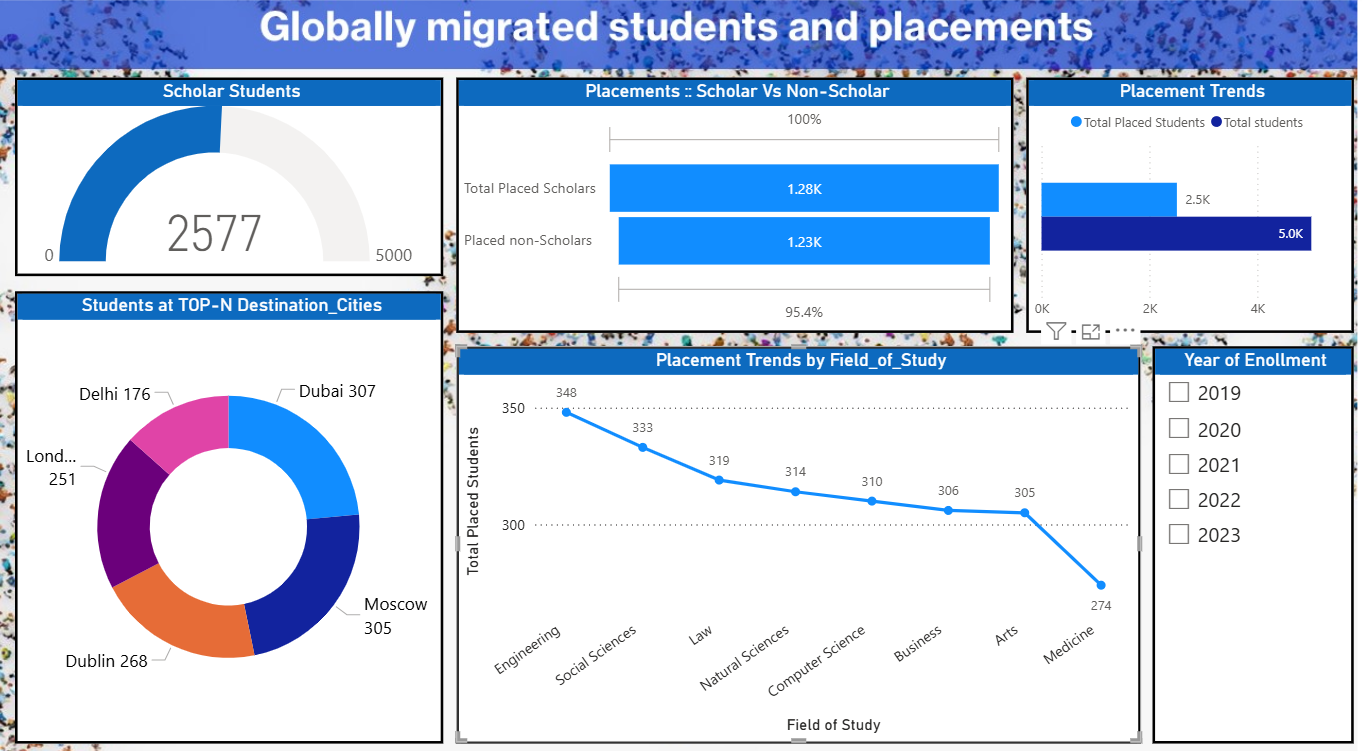

The dashboard page shown, as its layout file describes it:
{"tool":"powerbi","page":{"name":"Page 2","canvas":[1280,720],"ordinal":1},"visuals":[{"type":"image","box":[0,0,1280.3,720.2],"z":0},{"type":"gauge","title":"Scholar Students","fields":{"MaxValue":["global_student_migration.Total students"],"Y":["global_student_migration.Scholar Students"]},"box":[23.2,77,398.6,184.6],"z":1000},{"type":"donutChart","title":"Students at TOP-N Destination_Cities","fields":{"Category":["global_student_migration.destination_city"],"Y":["global_student_migration.Total students"]},"box":[23.2,275.1,398.6,420.7],"z":2000},{"type":"funnel","title":"Placements :: Scholar Vs Non-Scholar","fields":{"Y":["global_student_migration.Total Placed Scholars","global_student_migration.Placed non-Scholars"]},"box":[434.1,77,518.5,237.2],"z":3000},{"type":"clusteredBarChart","title":"Placement Trends","fields":{"Y":["global_student_migration.Total Placed Students","global_student_migration.Total students"]},"box":[963.6,77,304.5,237.2],"z":4000},{"type":"lineChart","title":"Placement Trends by Field_of_Study","fields":{"Category":["global_student_migration.field_of_study"],"Y":["global_student_migration.Total Placed Students"]},"box":[434.1,326.5,637.1,369.3],"z":5000},{"type":"slicer","title":"Year of Enollment","fields":{"Values":["global_student_migration.year_of_enrollment"]},"box":[1081,326.5,187.1,369.3],"z":6000}]}

Visuals, with their boxes in screenshot pixels (x1, y1, x2, y2), scaled from the page's 1280x720 canvas onto the 1362x751 screenshot:
image: region(0, 0, 1361, 750)
"Scholar Students" gauge: region(25, 80, 449, 273)
"Students at TOP-N Destination_Cities" donutChart: region(25, 287, 449, 726)
"Placements :: Scholar Vs Non-Scholar" funnel: region(462, 80, 1014, 328)
"Placement Trends" clusteredBarChart: region(1025, 80, 1349, 328)
"Placement Trends by Field_of_Study" lineChart: region(462, 341, 1140, 726)
"Year of Enollment" slicer: region(1150, 341, 1349, 726)
